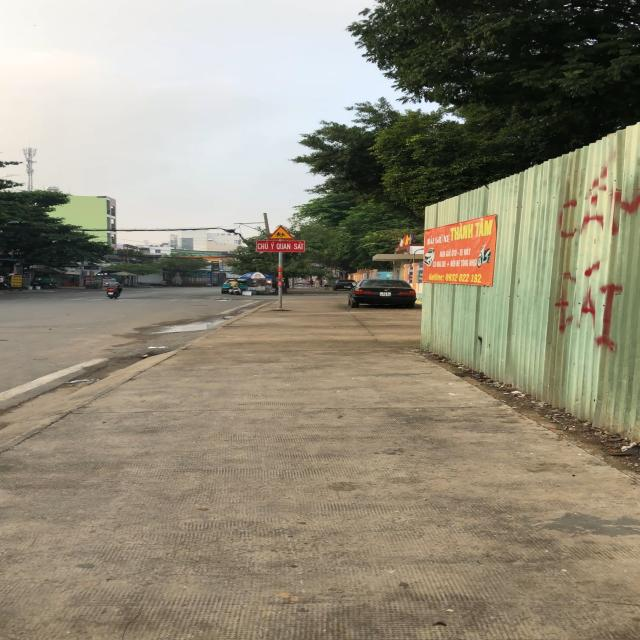Bien bao tre em: (265, 224, 306, 241)
